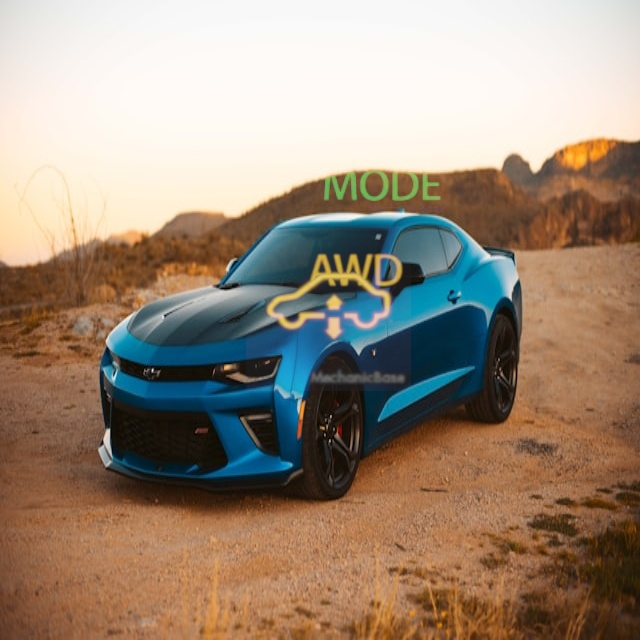symbol: (246, 226, 411, 391), (314, 83, 450, 219), (293, 210, 416, 333)
